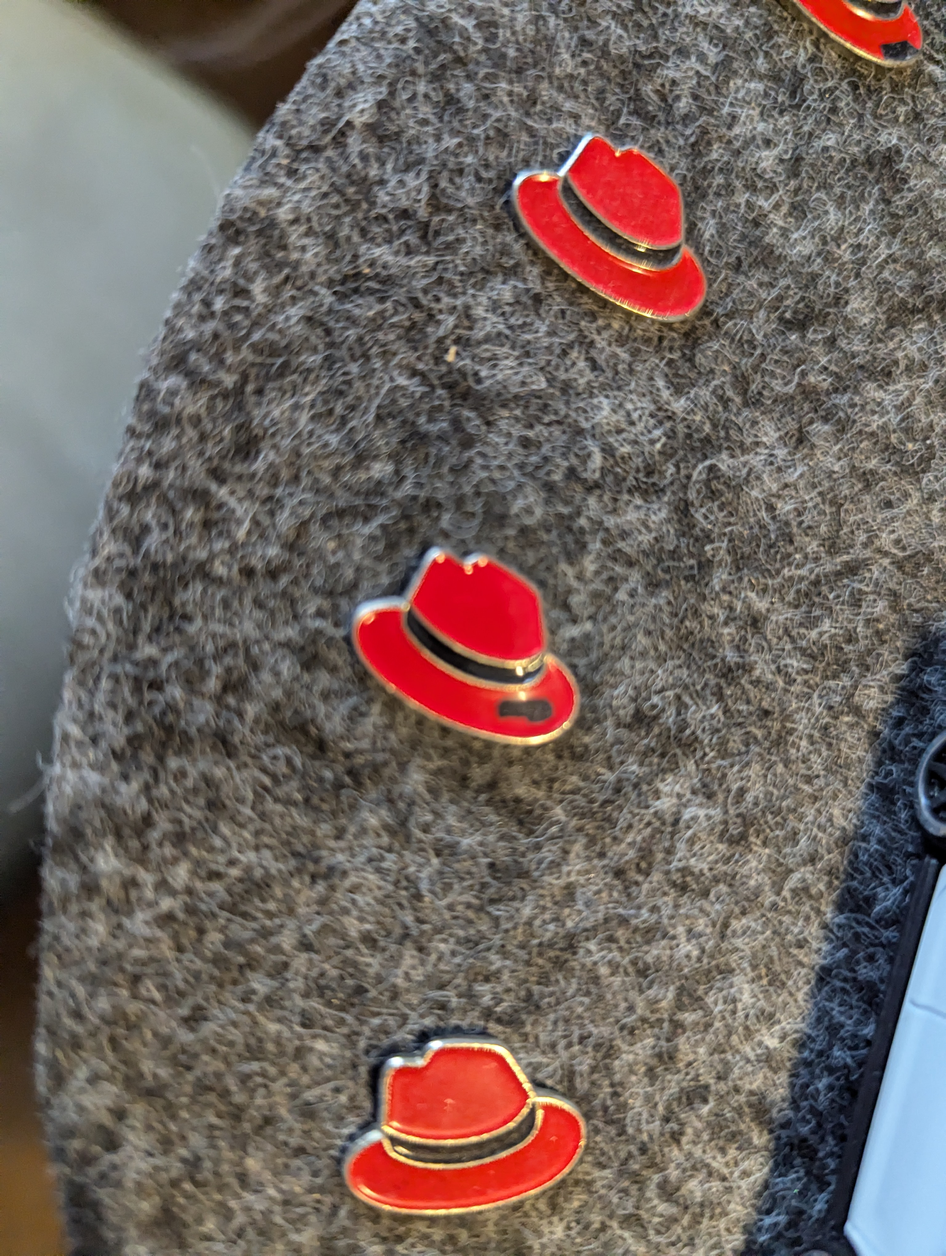Red-Hat: (333, 505, 650, 799), (301, 994, 594, 1242), (482, 107, 733, 348), (756, 0, 938, 118)
Scratch: (482, 681, 580, 736), (864, 36, 931, 77)
